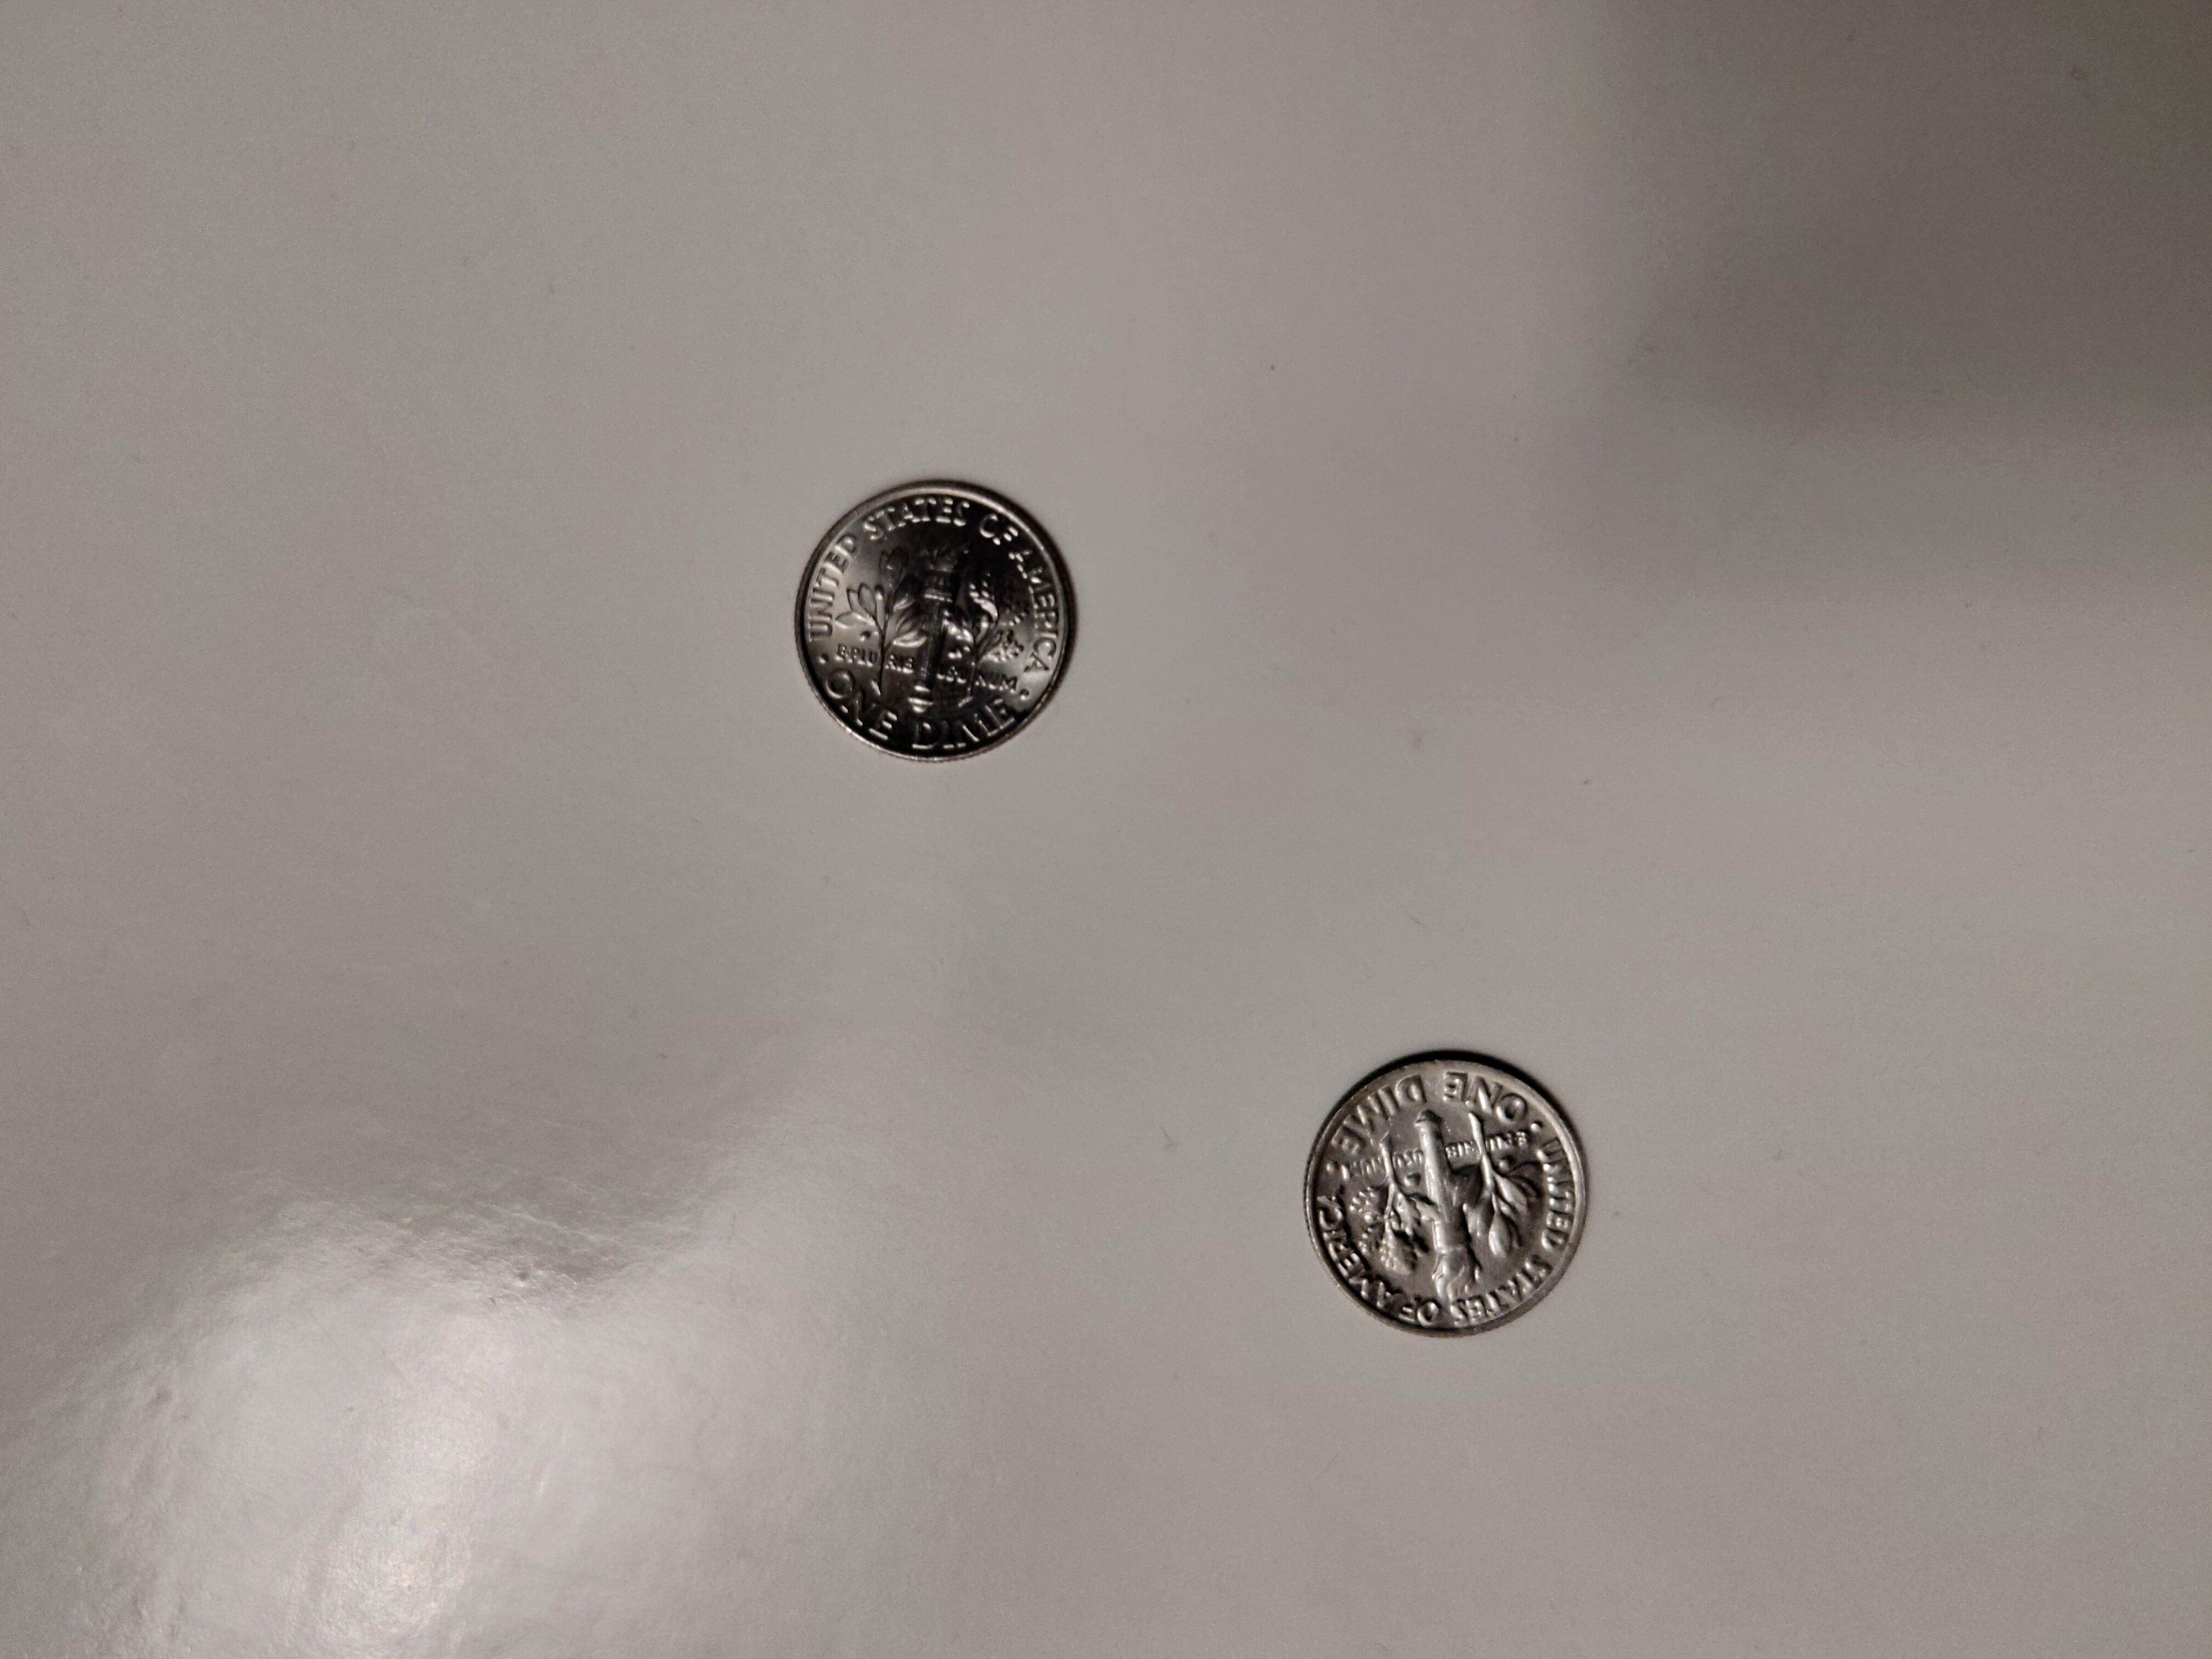Dime: (1298, 1042, 1592, 1338), (791, 474, 1080, 763)
